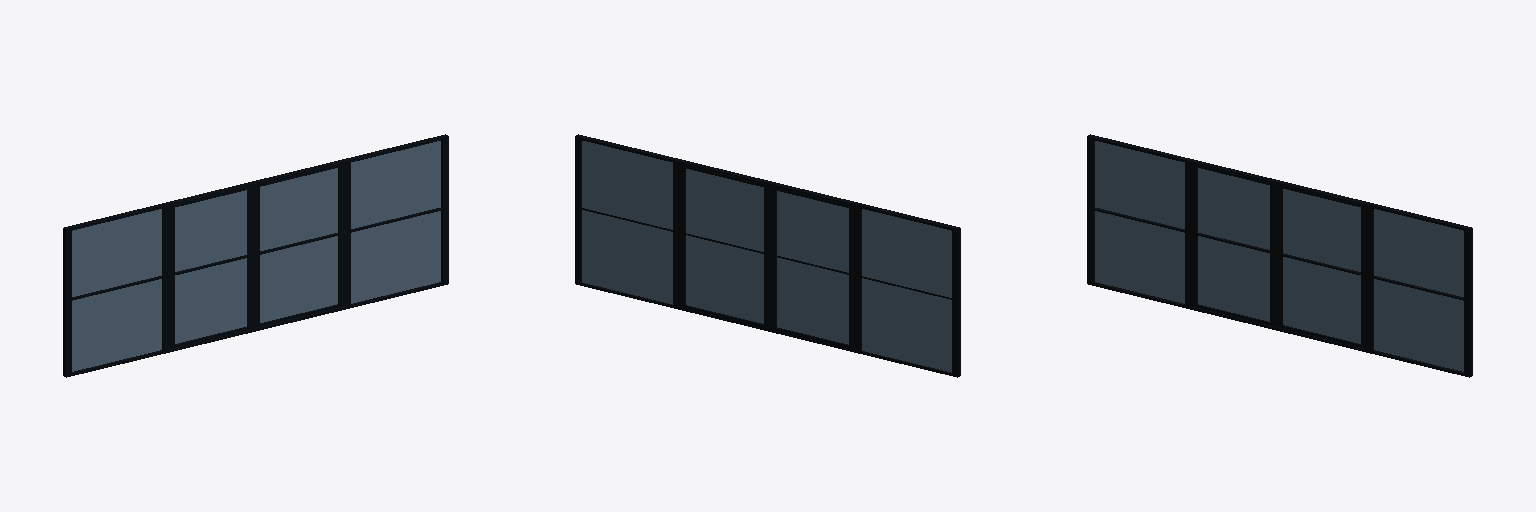
Rendered from chuang11.obj.
3 views of the same model, side by side, from view 1: azimuth 30°, elevation 25°; view 2: azimuth 150°, elevation 25°; view 3: azimuth 330°, elevation 25° (orthographic).
Visible parts, largest first — view 1: Rectangle040, Rectangle039, Rectangle038, Rectangle037; view 2: Rectangle040, Rectangle039, Rectangle038, Rectangle037; view 3: Rectangle040, Rectangle039, Rectangle038, Rectangle037.
Boxes of the visible parts, x1,y1,x2,y2 form: Rectangle040: [72, 141, 440, 371]; Rectangle039: [63, 134, 448, 377]; Rectangle038: [169, 164, 344, 348]; Rectangle037: [72, 208, 442, 300]; Rectangle040: [582, 141, 951, 372]; Rectangle039: [575, 134, 960, 377]; Rectangle038: [679, 164, 854, 349]; Rectangle037: [582, 208, 951, 299]; Rectangle040: [1095, 141, 1463, 371]; Rectangle039: [1087, 134, 1472, 377]; Rectangle038: [1191, 164, 1366, 348]; Rectangle037: [1093, 208, 1463, 300].
Size of the model in its own units: 60 by 22.24 by 0.7.